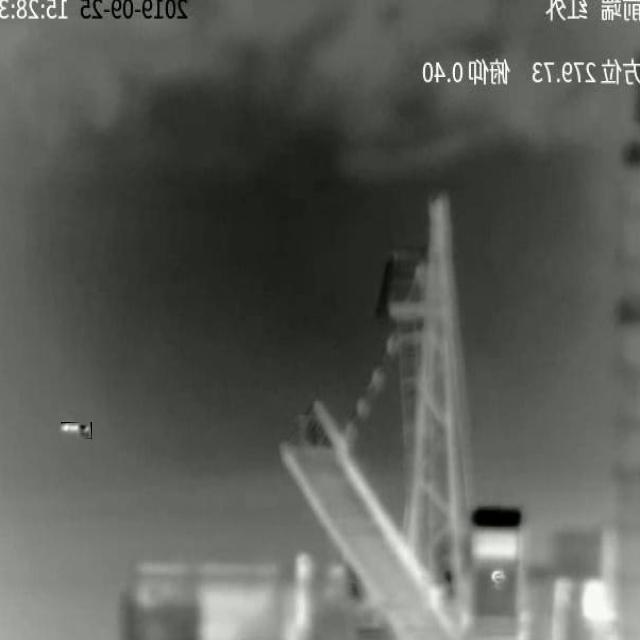drone: (61, 423, 91, 438)
